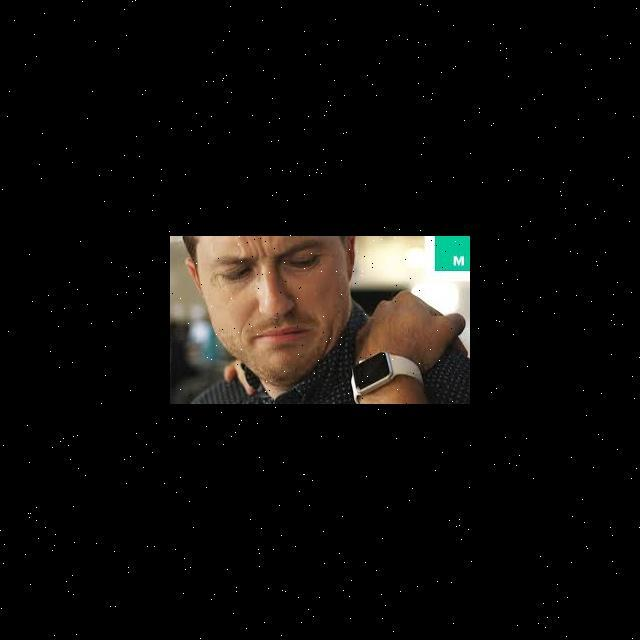watch: (348, 337, 422, 400)
